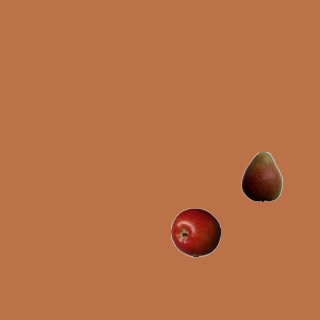Apple Braeburn: (170, 207, 220, 257)
Pear Forelle: (236, 151, 286, 201)
